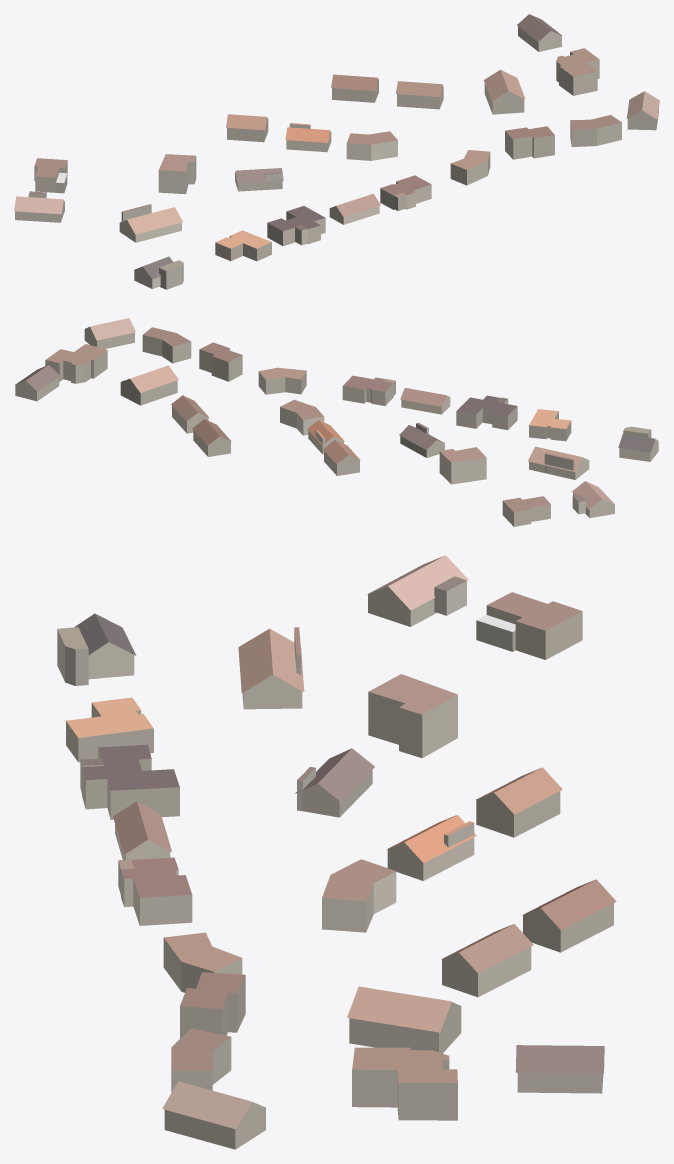
3 views of the same model, one above another, from view 1: azimuth 30°, elevation 25°; view 2: azimuth 150°, elevation 25°; view 3: azimuth 270°, elevation 25° (orthographic). The views are drawn at different scales.
Visible parts, largest first — view 1: tuile; view 2: tuile; view 3: tuile.
Part boxes in pixels (x1,y1,x2,y2): tuile: (14,14,659,289); tuile: (15,318,658,526); tuile: (57,555,616,1149).
Bounding box in the file's own units: 248 × 19.66 × 104.
